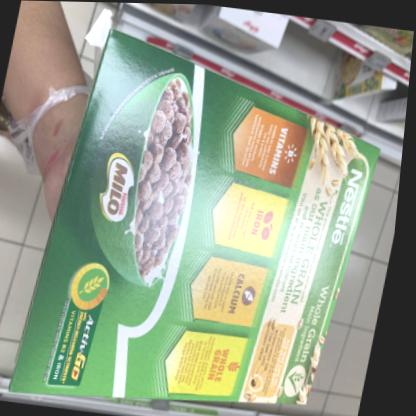cereal box: (31, 7, 415, 415)
